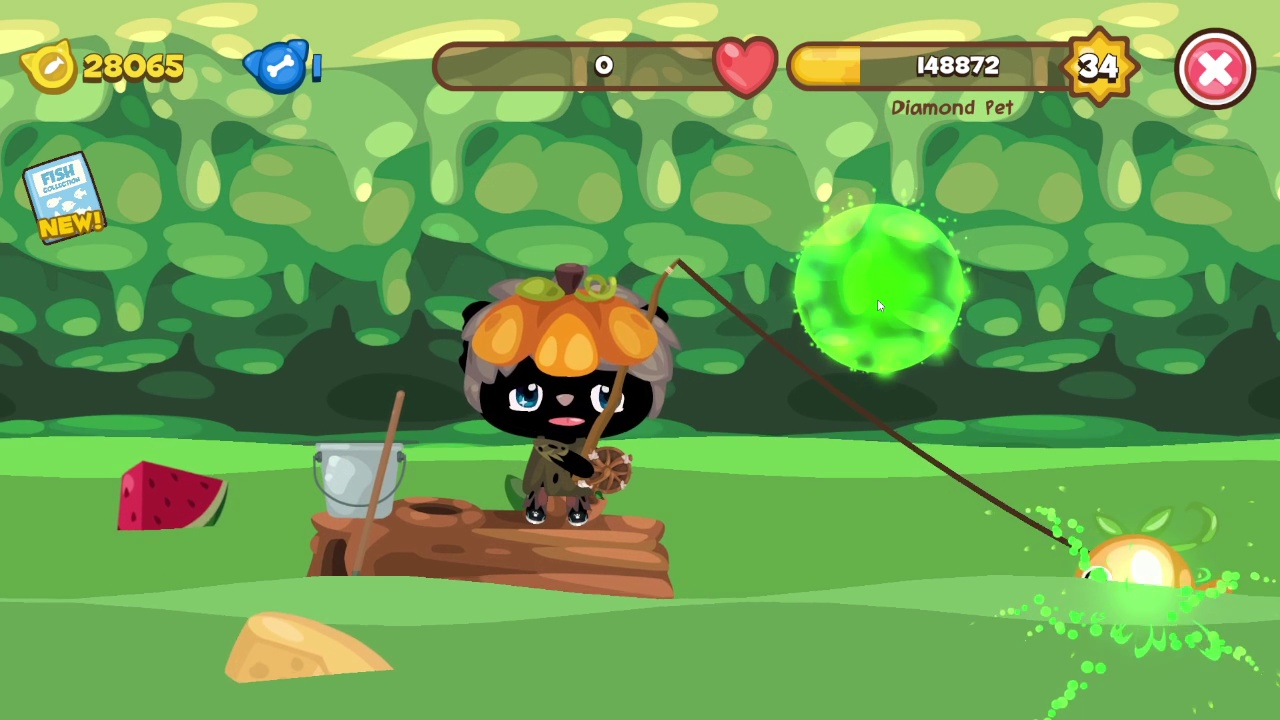point: (792, 199, 970, 376)
